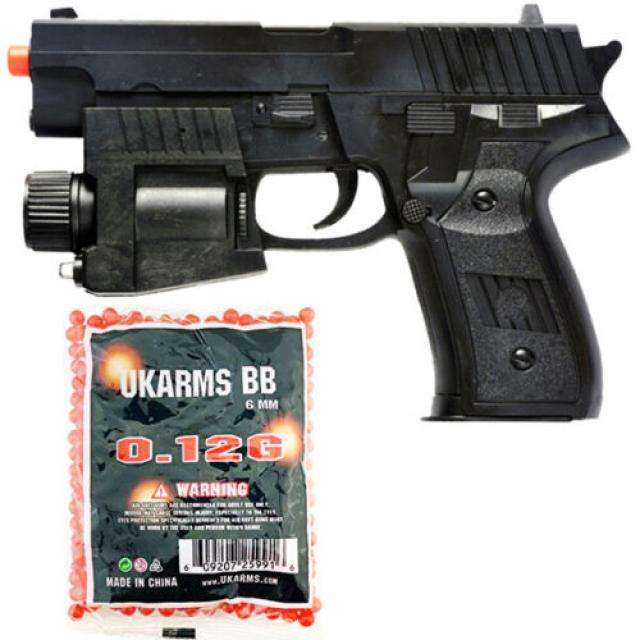HandGun: (22, 8, 632, 435)
